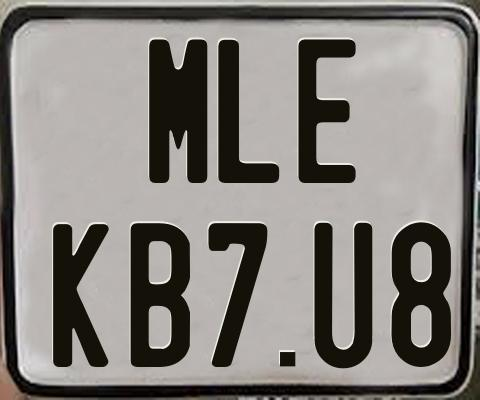7: (206, 220, 268, 368)
8: (391, 221, 457, 370)
B: (129, 220, 193, 368)
E: (296, 39, 355, 185)
K: (52, 221, 109, 369)
L: (215, 40, 281, 184)
M: (148, 36, 210, 183)
U: (312, 220, 374, 370)
